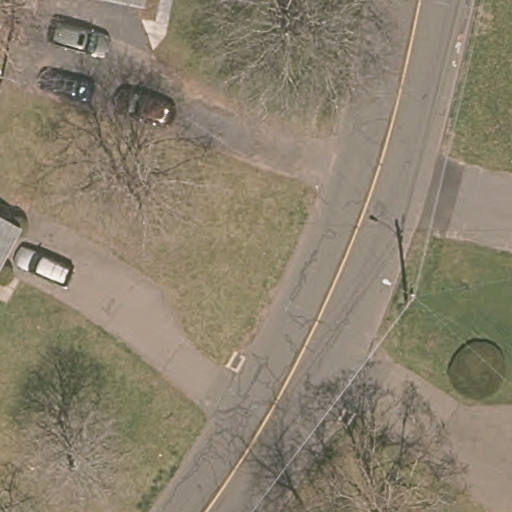DT: (379, 278, 418, 302)
